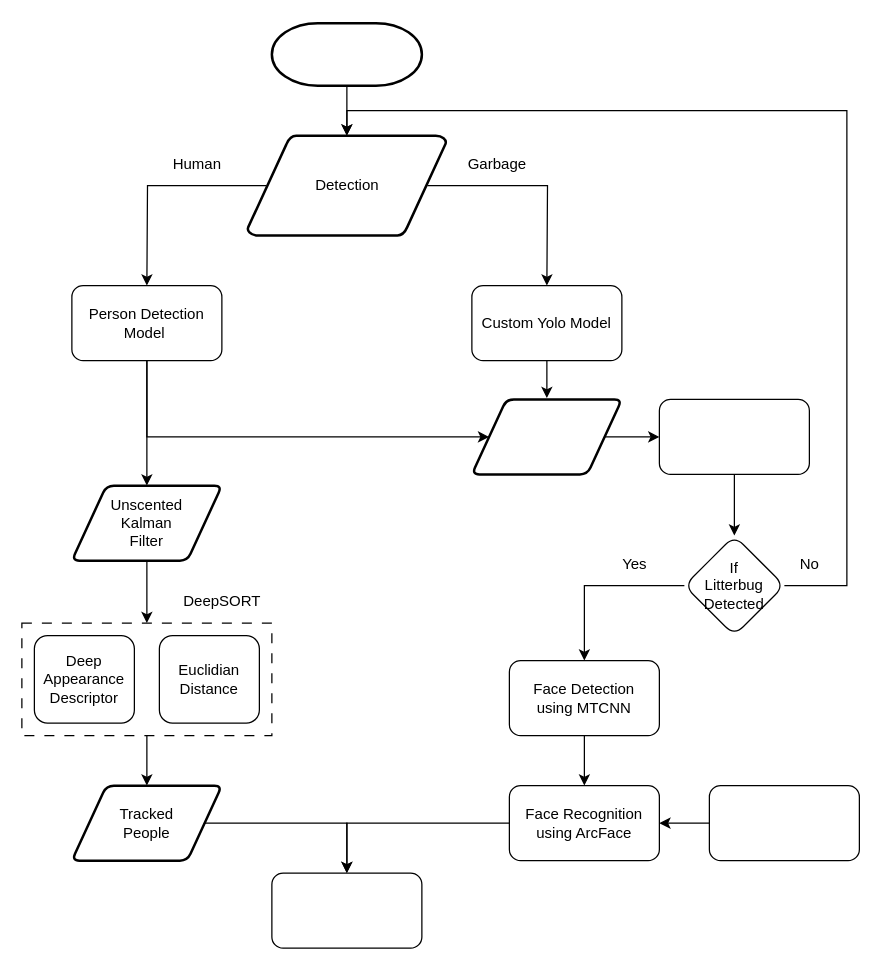
Some shapes in this 881 by 970 pixel diagram are drawn without their labels. The centre of each missing label's shape, as x and y in pixels:
AoI: the point at 546,436
Database: the point at 783,822
Litterbug Recognized: the point at 346,910
Littering Detection: the point at 733,436
Start: the point at 346,53
